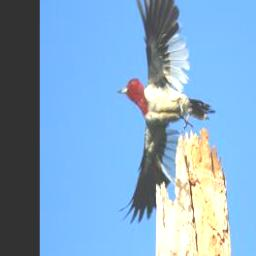Woodpecker: (116, 0, 216, 225)
